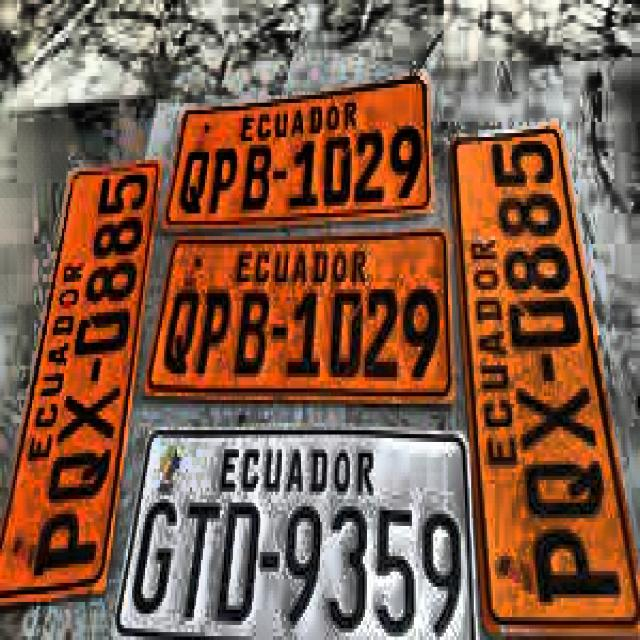license_plate: (446, 105, 640, 639), (0, 139, 171, 624), (102, 420, 478, 637), (139, 212, 460, 420), (157, 66, 436, 236)
